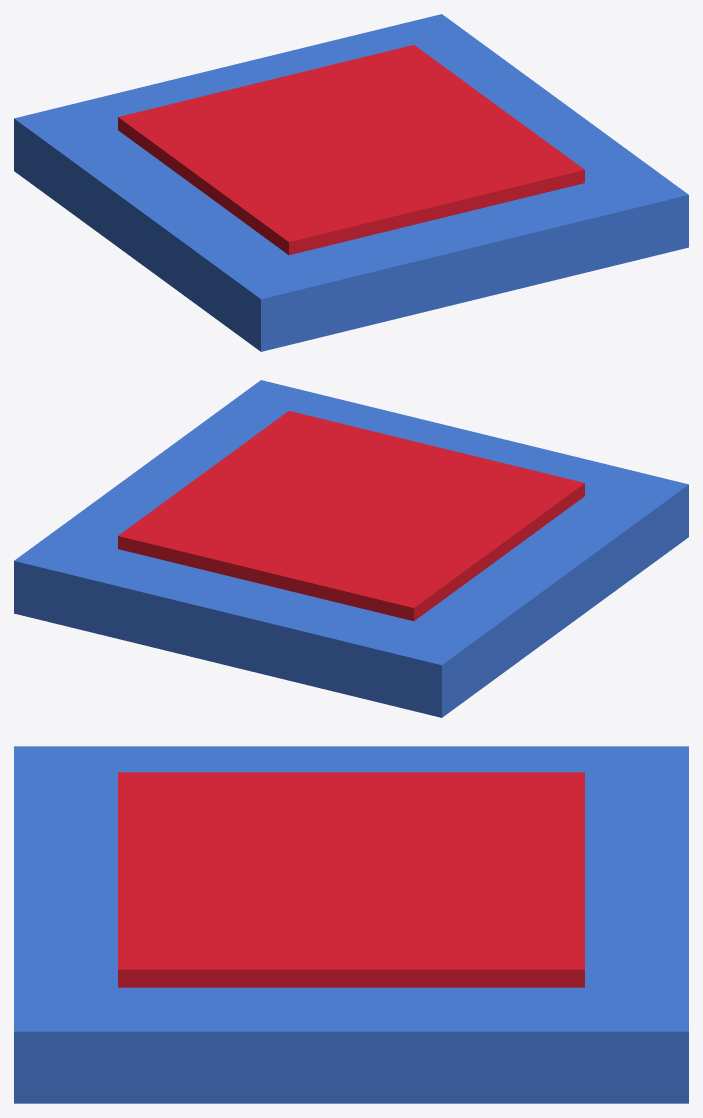
The model's file is lemon_btn.fbx.
3 views of the same model, one above another, from view 1: azimuth 30°, elevation 25°; view 2: azimuth 150°, elevation 25°; view 3: azimuth 270°, elevation 25° (orthographic). The views are drawn at different scales.
Visible parts, largest first — view 1: Cube, Cube.001; view 2: Cube, Cube.001; view 3: Cube, Cube.001.
Boxes of the visible parts, bbox=[...] form: Cube: bbox=[14, 14, 688, 351]; Cube.001: bbox=[118, 45, 584, 255]; Cube: bbox=[14, 380, 688, 717]; Cube.001: bbox=[118, 411, 584, 621]; Cube: bbox=[14, 746, 688, 1103]; Cube.001: bbox=[118, 772, 584, 987].
Bounding box in the file's own units: 340 × 50 × 340.
